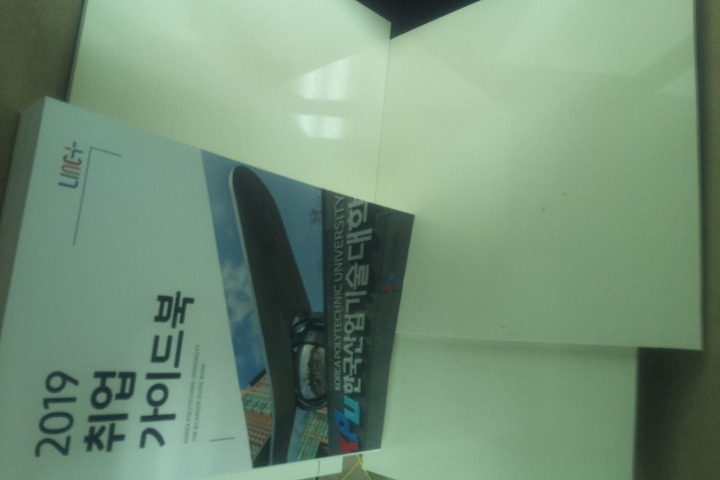book: (1, 93, 417, 480)
